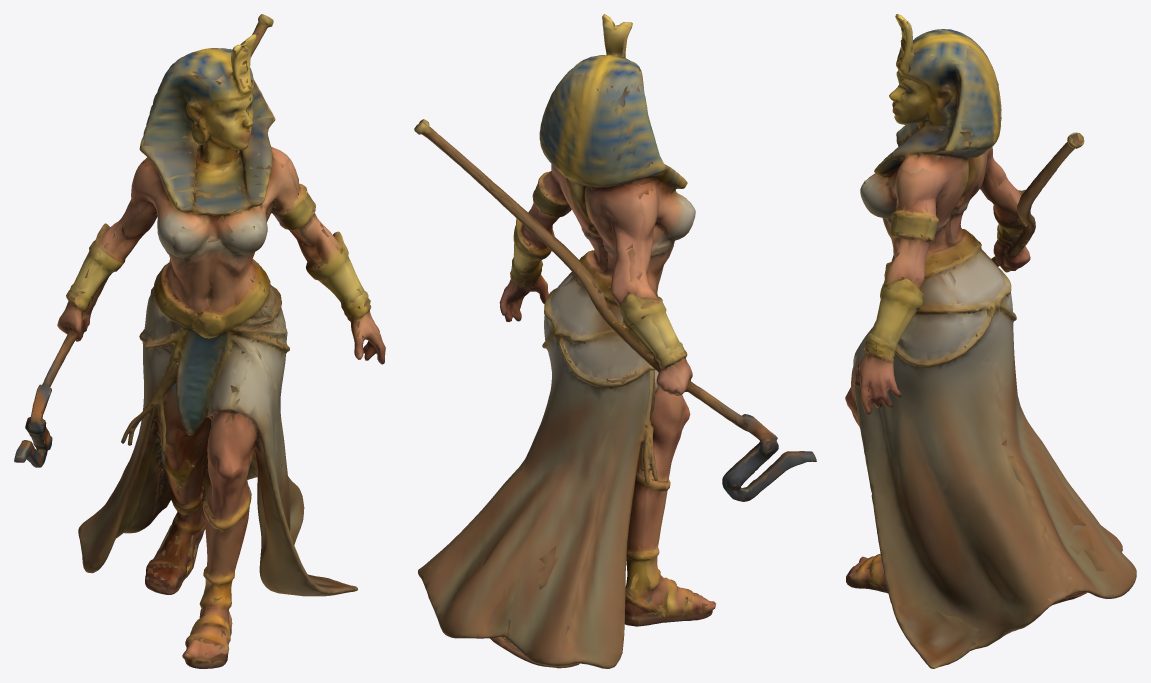
Rendered from Serethat (Forgotten Pharaoh)_final.glb.
3 views of the same model, side by side, from view 1: azimuth 30°, elevation 25°; view 2: azimuth 150°, elevation 25°; view 3: azimuth 270°, elevation 25° (orthographic).
Visible parts, largest first — view 1: Mesh1.0; view 2: Mesh1.0; view 3: Mesh1.0.
Boxes of the visible parts, x1,y1,x2,y2 form: Mesh1.0: (14,14,385,668); Mesh1.0: (414,14,816,668); Mesh1.0: (845,14,1136,668).
Size of the model in its own units: 1.01 by 1.67 by 0.7424.
1 material, 1 textured.
